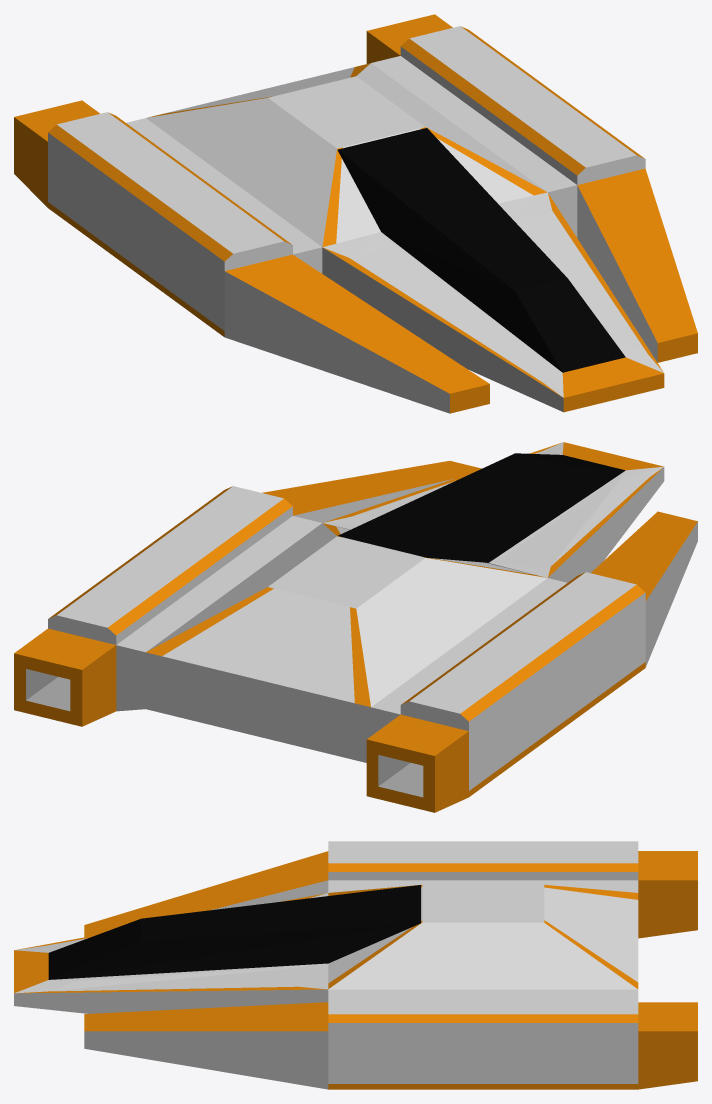
File: B_Spaceship_2_Update.fbx
The picture shows the model from 3 angles, top to bottom: view 1: azimuth 30°, elevation 25°; view 2: azimuth 150°, elevation 25°; view 3: azimuth 270°, elevation 25°; orthographic projection. The views are drawn at different scales.
Parts seen in each view (by area): view 1: pCube1; view 2: pCube1; view 3: pCube1.
Boxes of the visible parts, x1=… form: pCube1: x1=14, y1=14, x2=697, y2=413; pCube1: x1=14, y1=442, x2=697, y2=812; pCube1: x1=14, y1=841, x2=697, y2=1089.
Bounding box in the file's own units: 0.0775 × 0.1242 × 0.0192.
